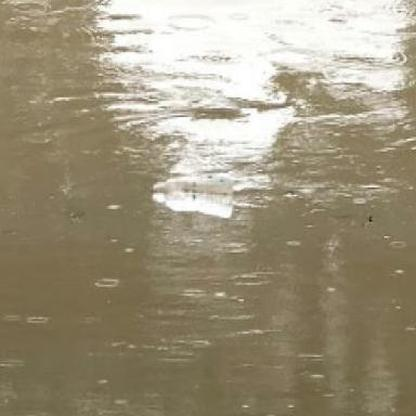plastic bottle: (151, 182, 234, 219)
